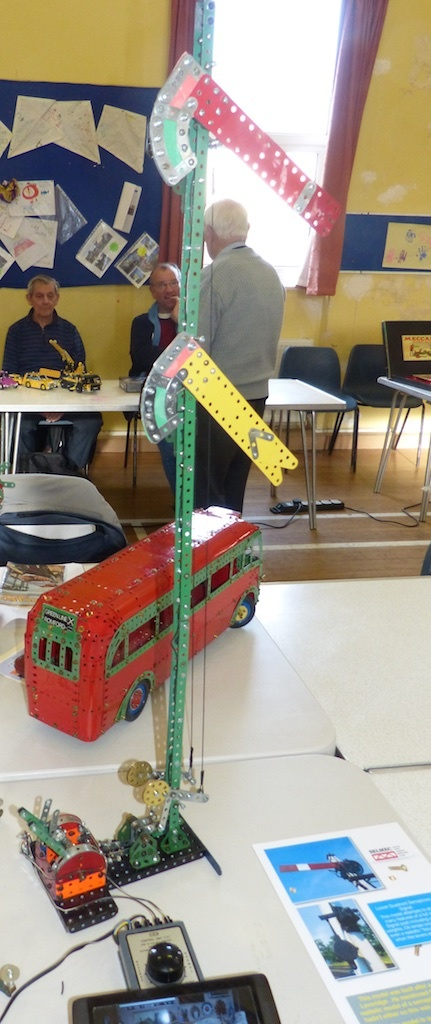Bus: (17, 501, 268, 737)
